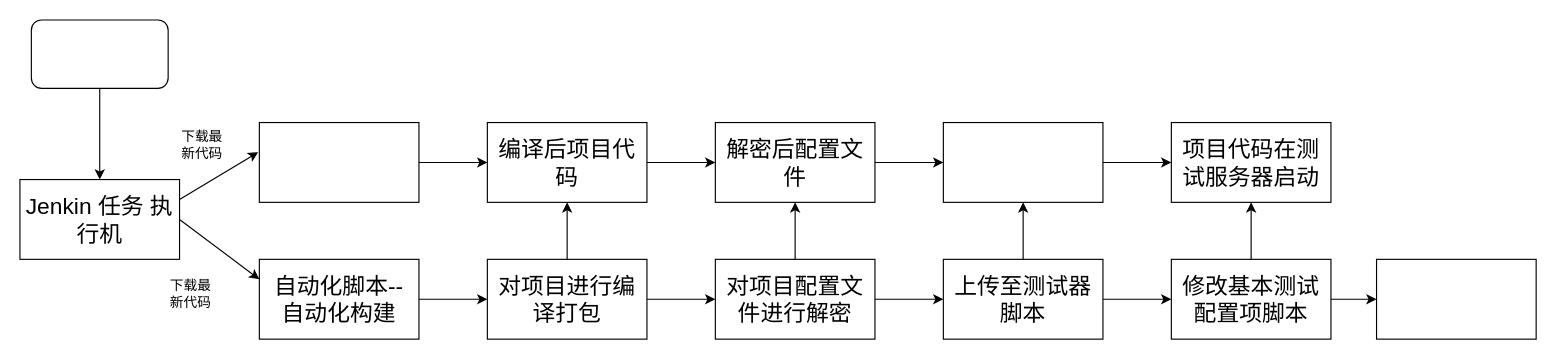
This 1556x359 diagram has some shape labels left out. The shapes that lost their labels are listed below. From the top down, each one's box as (x1, y1, x2, y2) in pixels, then its label:
(30, 19, 168, 88): 远程调用Jenkins任务
(258, 121, 419, 202): 项目代码目录
(942, 121, 1103, 202): 项目代码部署到测试服务器
(1375, 258, 1536, 339): 自动与手动测试环节
